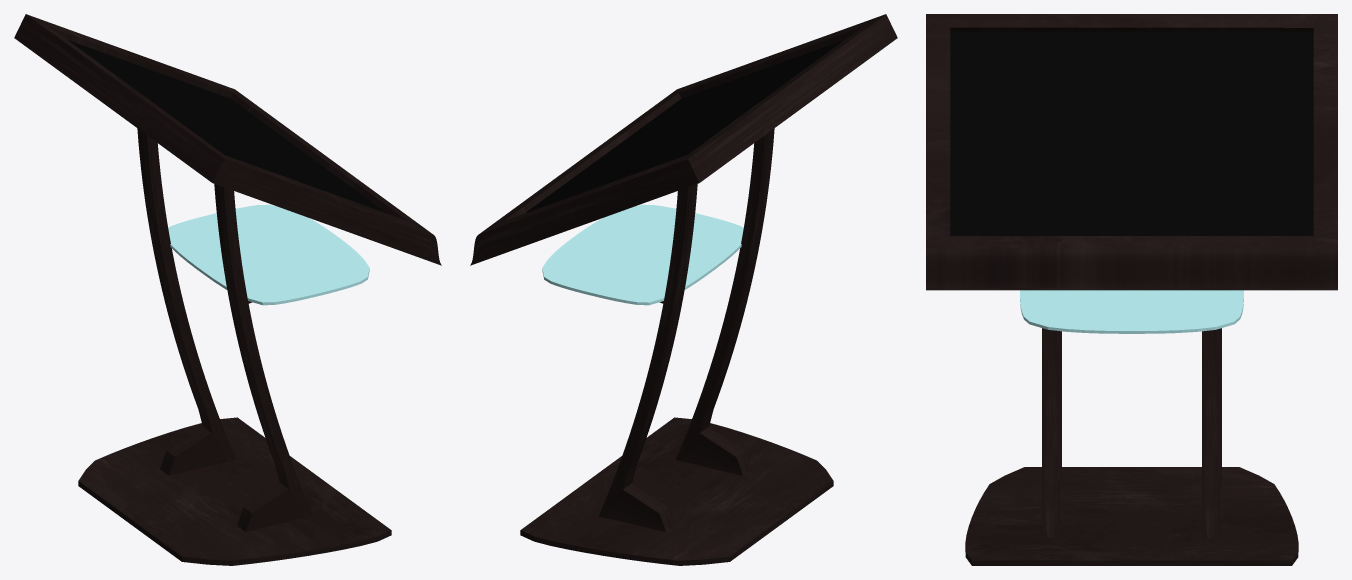
The model's file is MonitorGro.fbx.
The picture shows the model from 3 angles, left to right: view 1: azimuth 30°, elevation 25°; view 2: azimuth 150°, elevation 25°; view 3: azimuth 270°, elevation 25°; orthographic projection. The views are drawn at different scales.
Parts seen in each view (by area): view 1: MonitorGroß; view 2: MonitorGroß; view 3: MonitorGroß.
Boxes of the visible parts, left/top/right/bottom form: MonitorGroß: left=14, top=14, right=441, bottom=565; MonitorGroß: left=470, top=14, right=897, bottom=565; MonitorGroß: left=926, top=14, right=1337, bottom=565.
Size of the model in its own units: 68.85 by 126 by 103.
